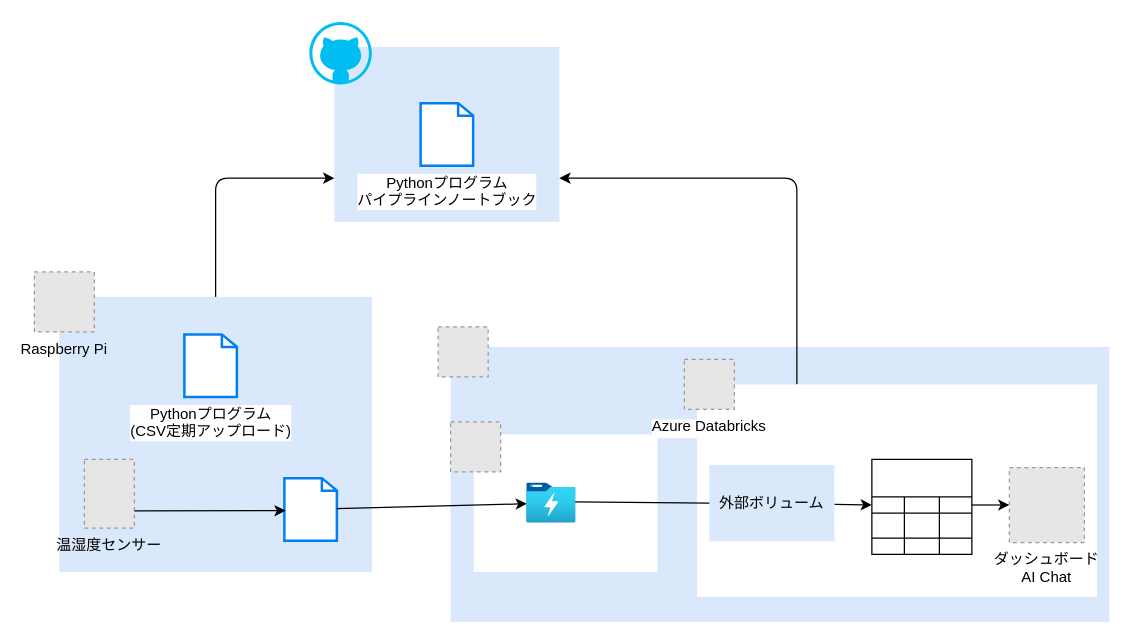
Some shapes in this 1131 by 643 pixel diagram are drawn without their labels. Grey dashed boxes stand in for pictures. The centre of each missing label's shape, as x and y in pixels:
Data Lake Storage Gen2: the point at 551,502
GitHub ソースコード管理: the point at 340,52
Table: the point at 921,506
温湿度CSV: the point at 310,508
